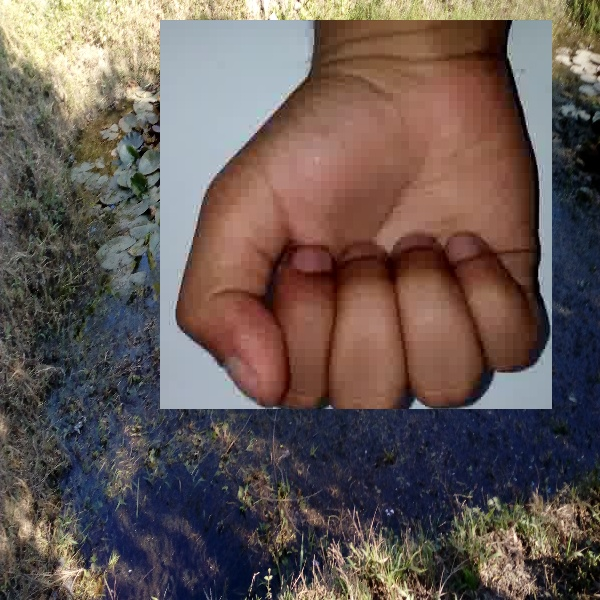A: (160, 20, 552, 409)
